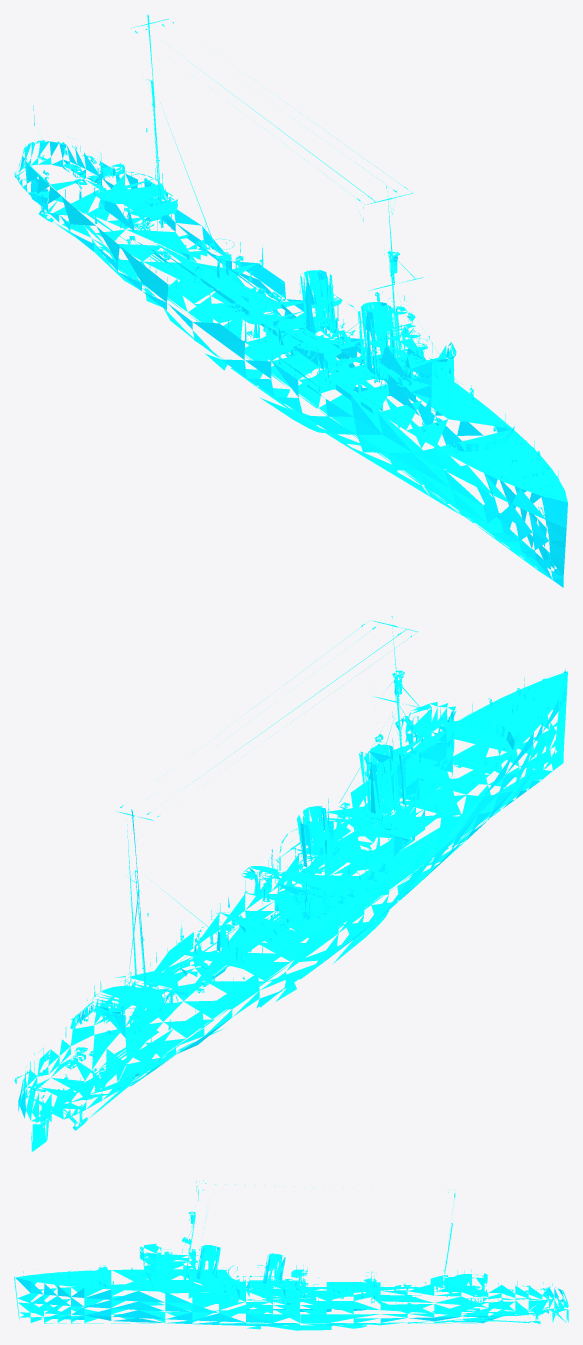
Rendered from Sauro.glb.
The picture shows the model from 3 angles, top to bottom: view 1: azimuth 30°, elevation 25°; view 2: azimuth 150°, elevation 25°; view 3: azimuth 270°, elevation 25°; orthographic projection. The views are drawn at different scales.
Size of the model in its own units: 0.6262 by 1.71 by 6.05.
